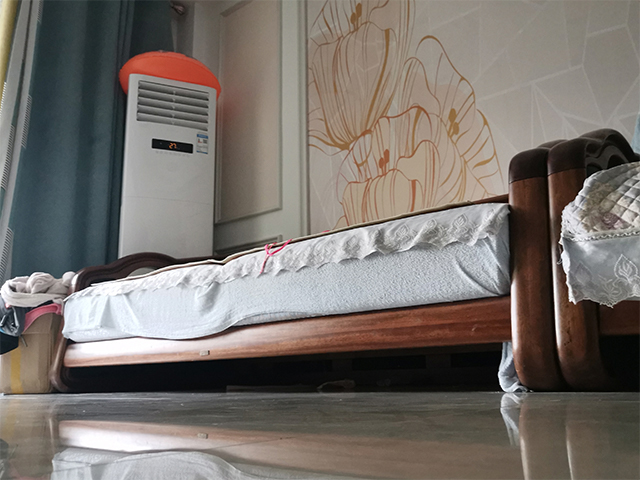sofa: (47, 127, 640, 394)
